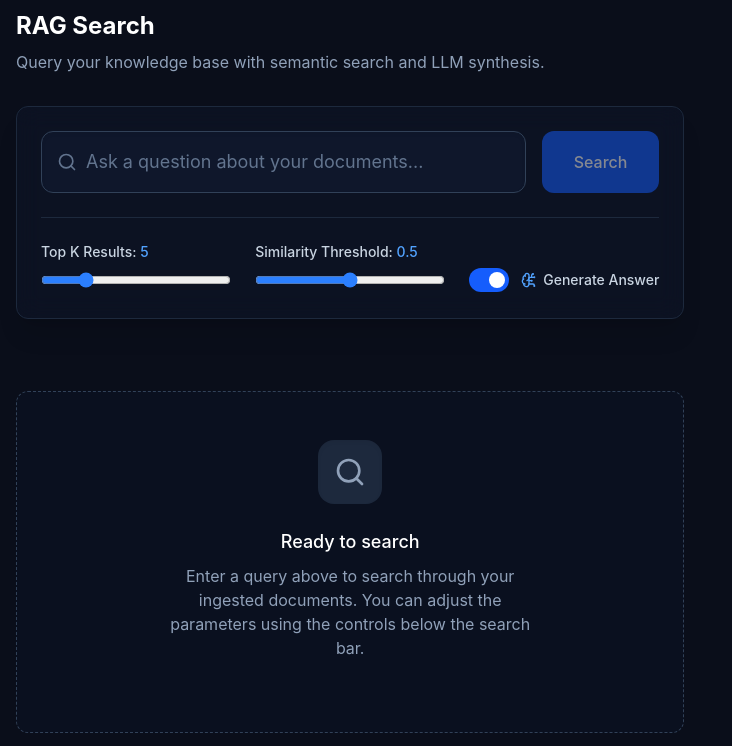
SearchPage › performs search and displays results and synthesized answer
In the field with placeholder "Ask a question about your documents...": [283, 162] box [41,131,526,193], type "What is semantic search?"
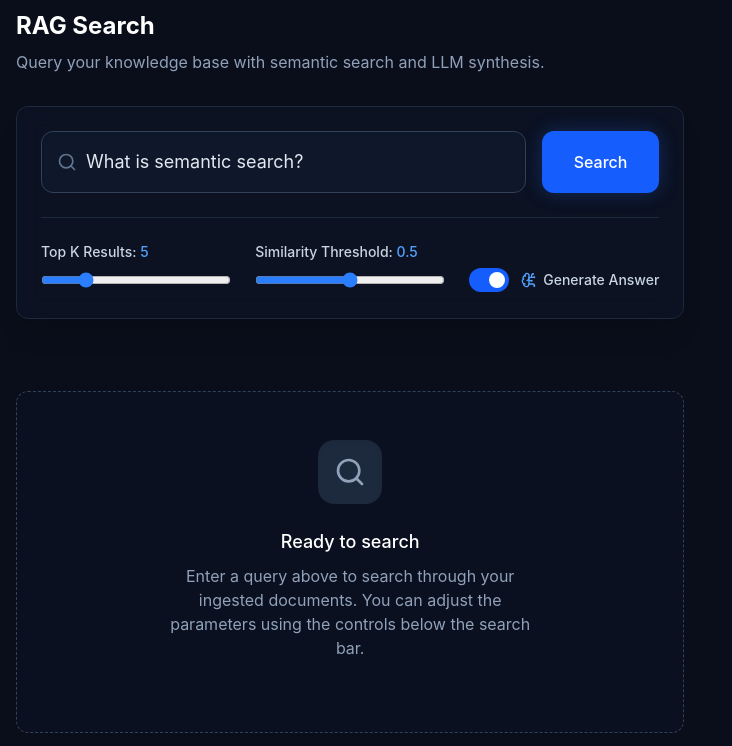
Click the button "Search": [601, 162] box [542,131,659,193]
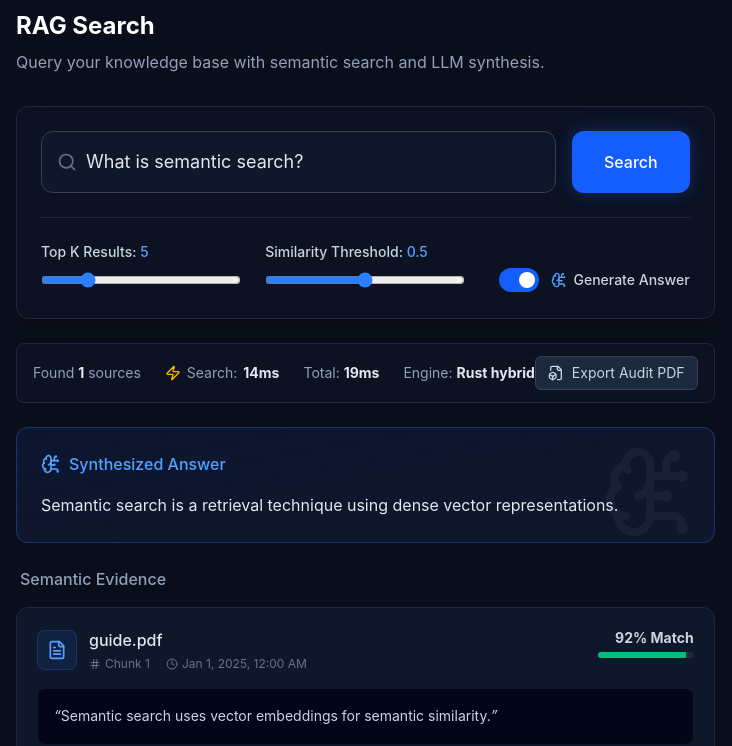
Now the heading "Synthesized Answer" is shown, box [69,454,226,474]
Now the text "Semantic search is a retrieval technique using dense vector representations." is shown, box [41,495,618,515]
Now the heading "guide.pdf" is shown, box [89,630,163,650]
